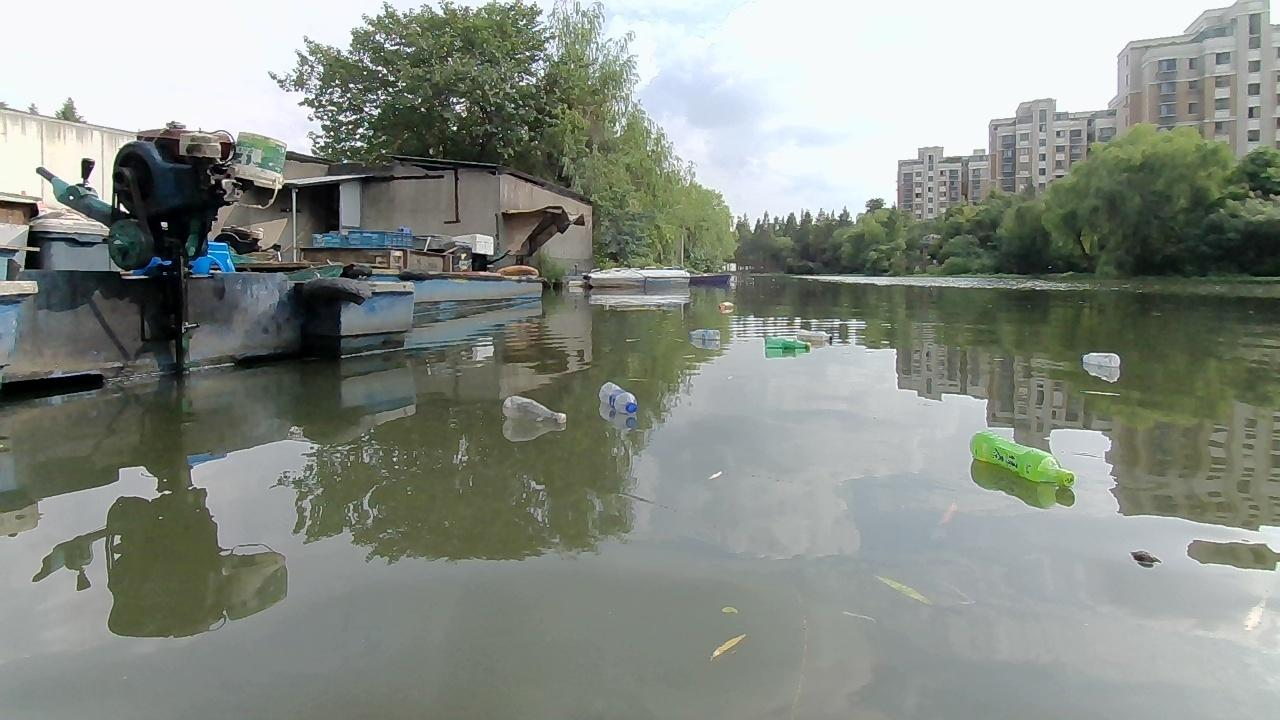bottle: (971, 423, 1074, 487), (497, 386, 575, 429), (596, 378, 637, 411), (761, 332, 810, 351), (1080, 347, 1125, 365), (806, 327, 840, 346), (690, 327, 721, 340), (719, 298, 735, 315)
